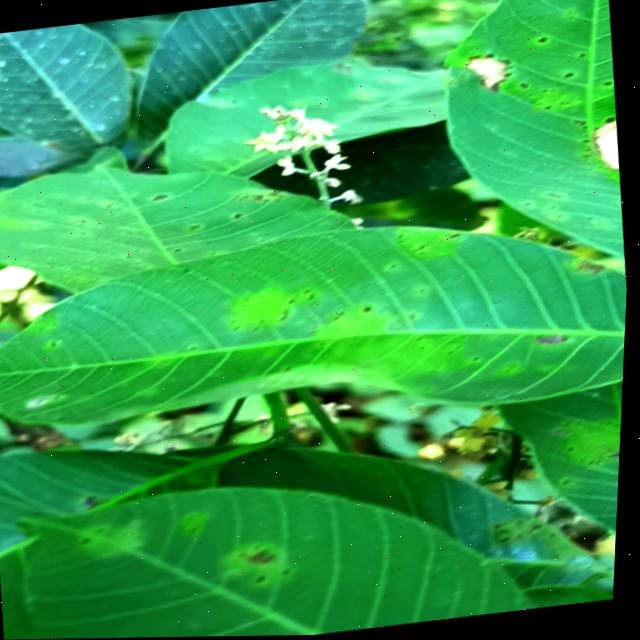Leaf-Blight: (463, 53, 512, 93), (588, 120, 622, 173)
